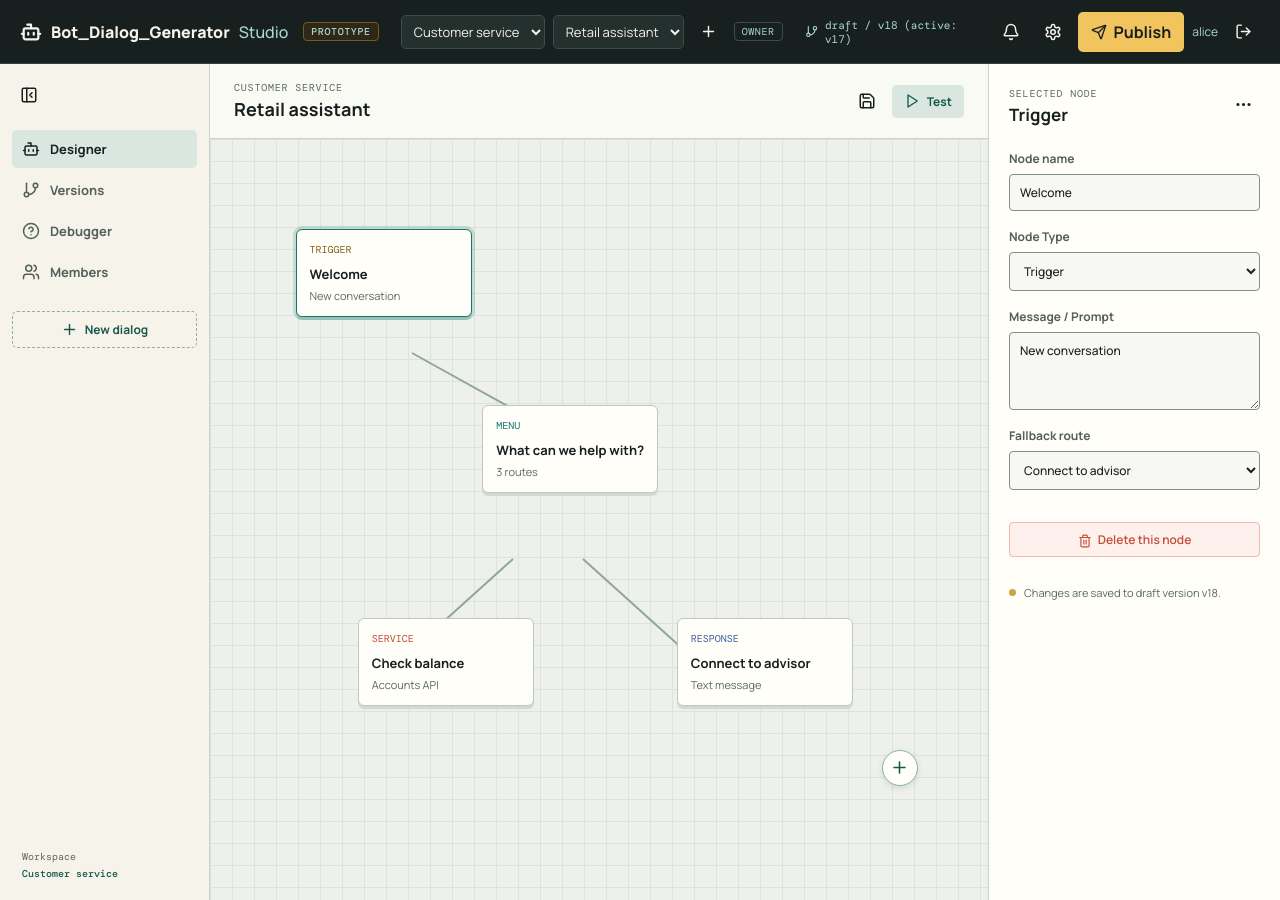
it: Studio › asks whether to use the AI assistant or the contact center before handing off
Expected: the text "Check balance" is shown, [372,654,464,672]
Click the button "Test": (928, 101) [892,84,964,118]
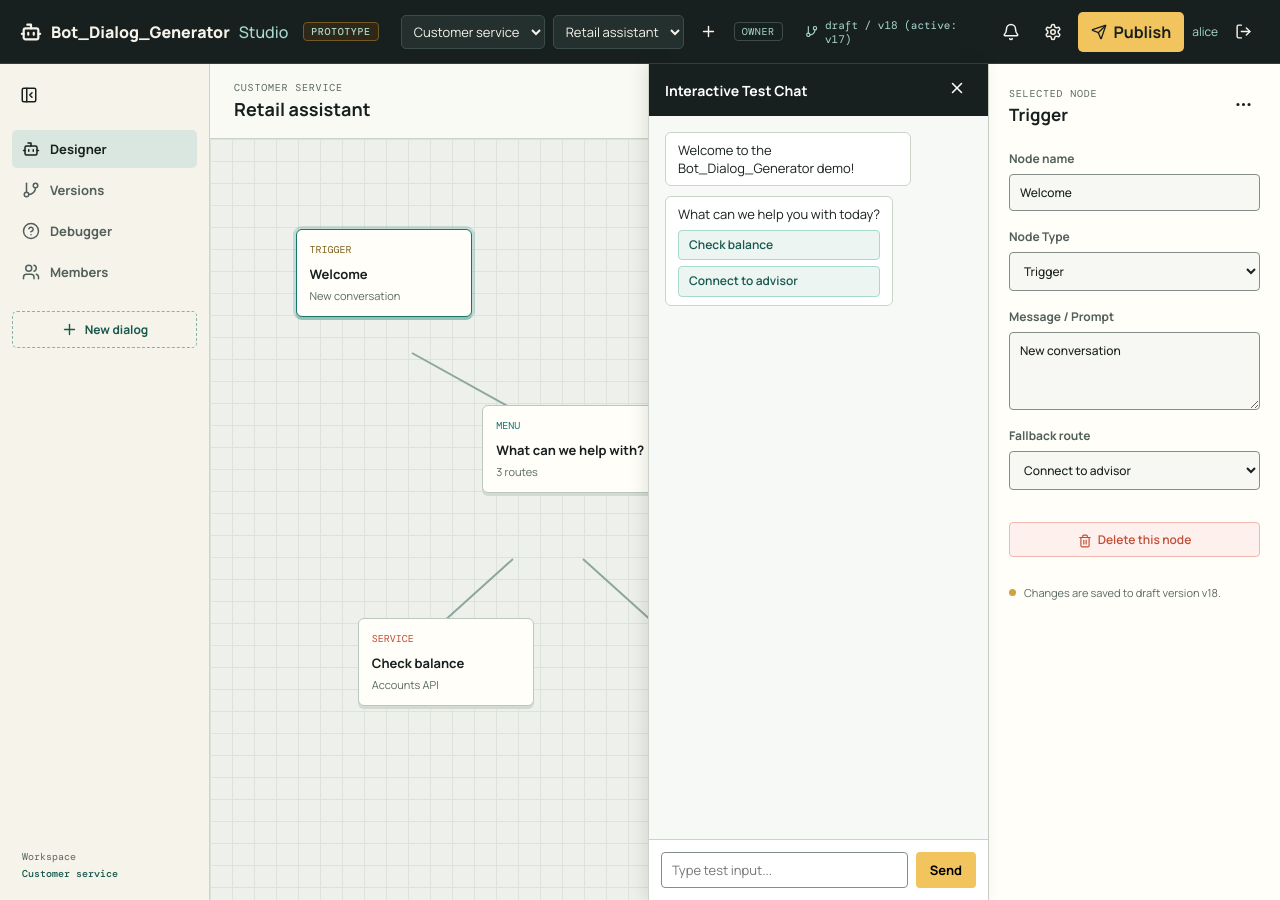
Click the button "Connect to advisor": (779, 282) [678,266,880,297]
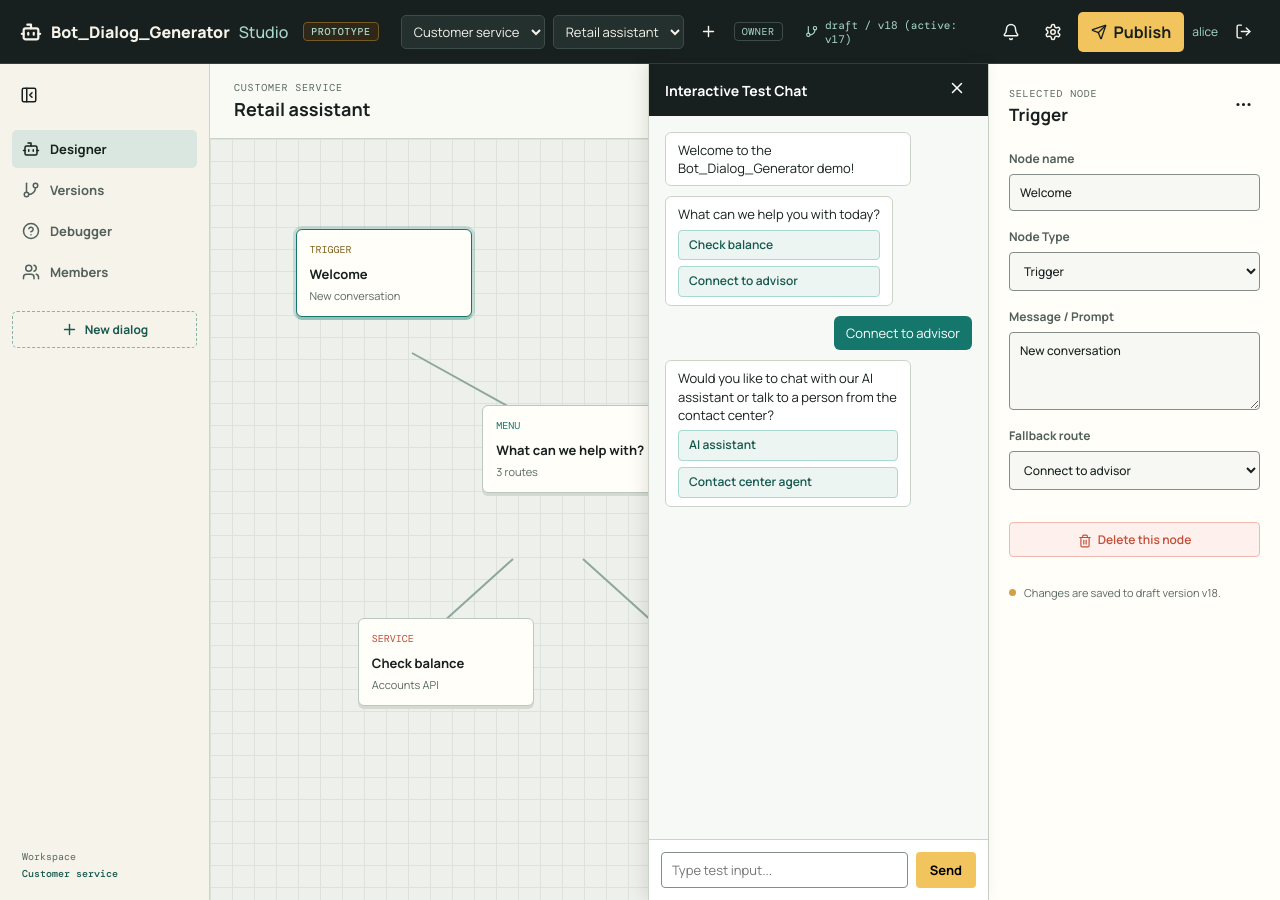
Expected: the text "Would you like to chat with our AI assistant or talk to a person from the contact center?" is shown, [678,369,897,424]
Click the button "AI assistant": (788, 445) [678,430,898,461]
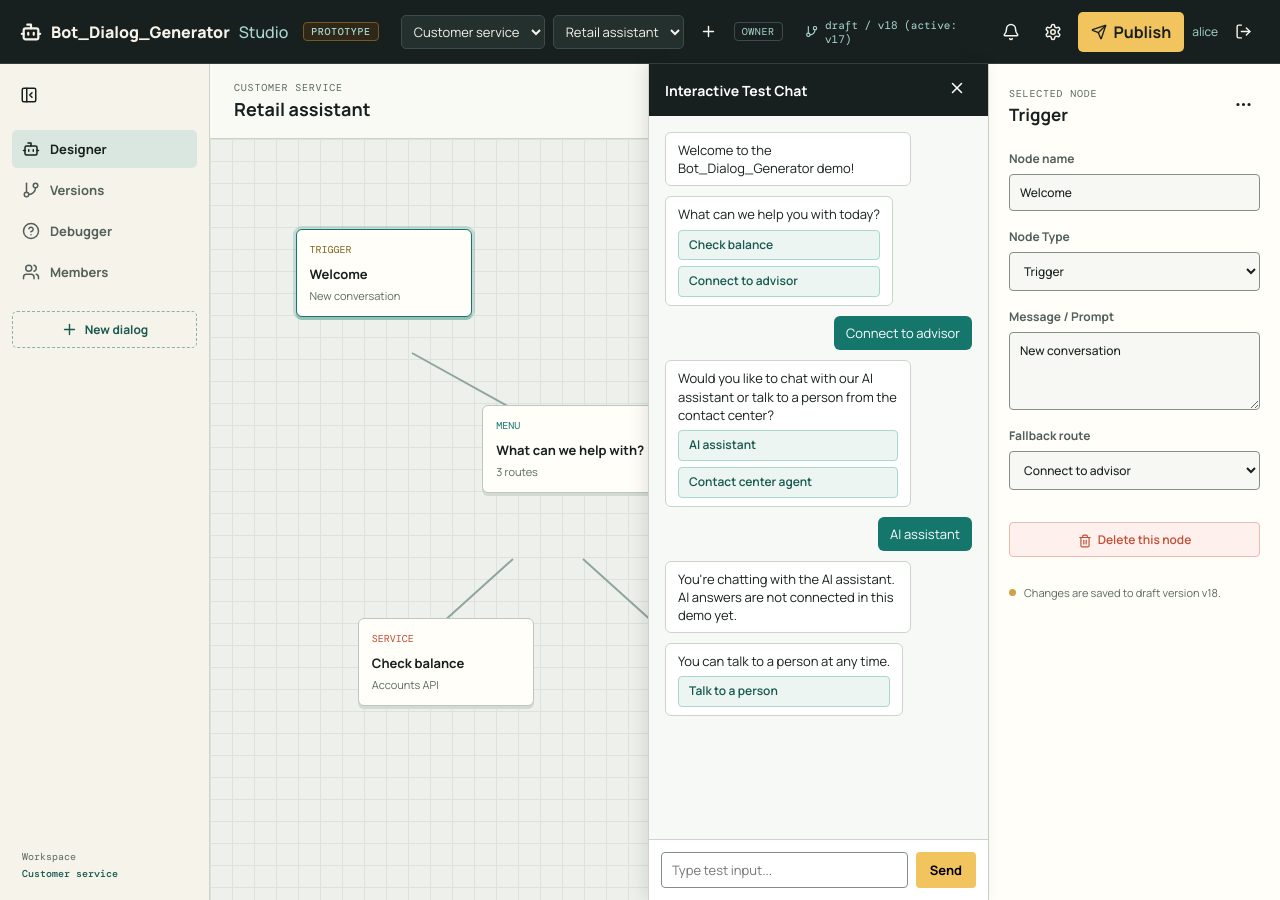
Expected: the text "You can talk to a person at any time." is shown, [678,652,890,670]
Click the button "Talk to a person": (784, 692) [678,676,890,707]
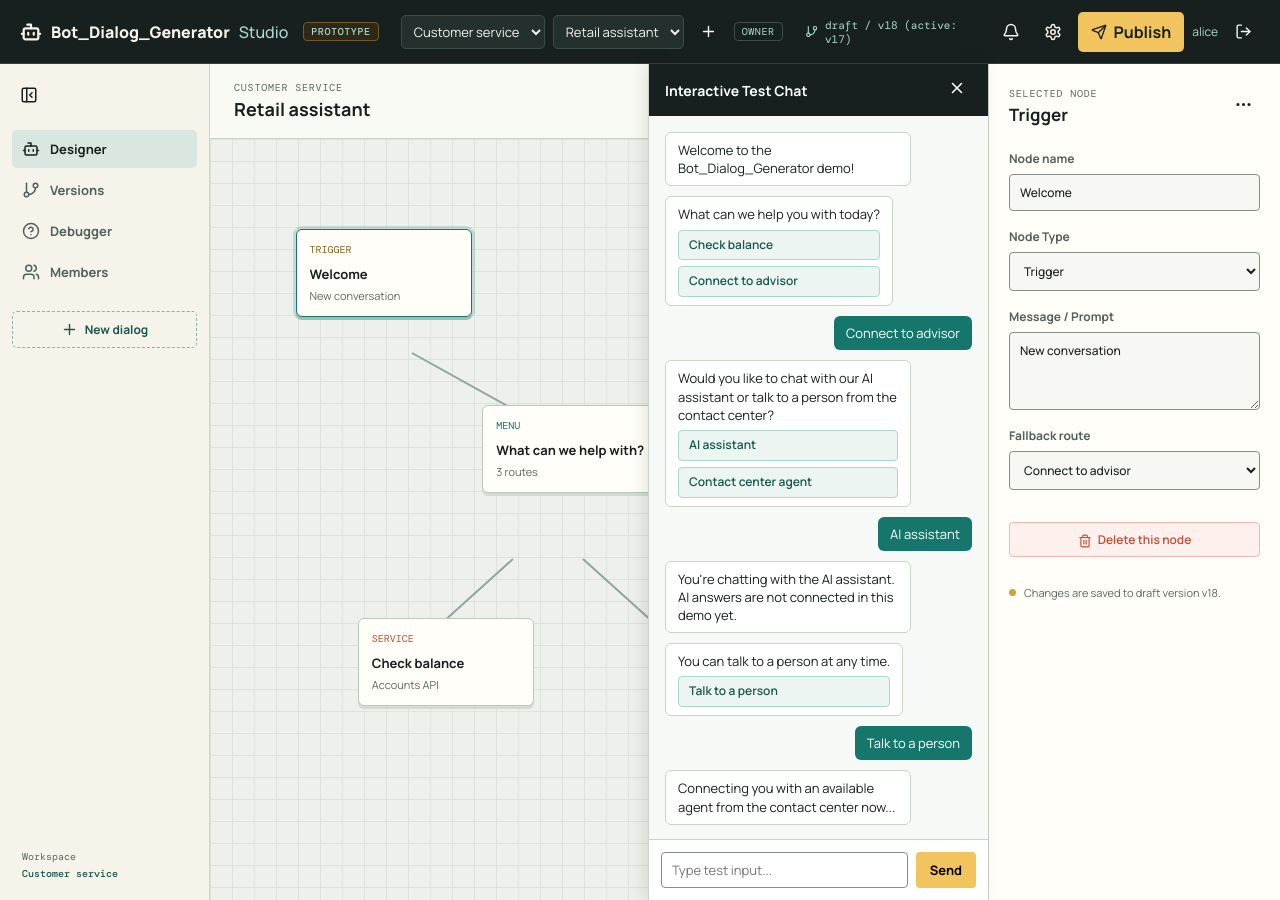
Expected: the text "Connecting you with an available agent from the contact center now..." is shown, [678,779,898,816]
